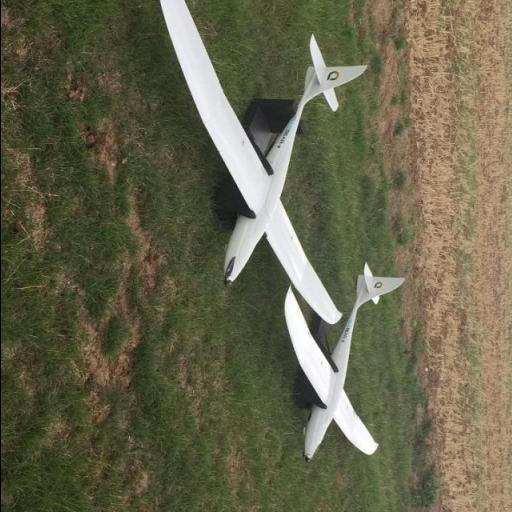uav: (292, 264, 412, 472)
